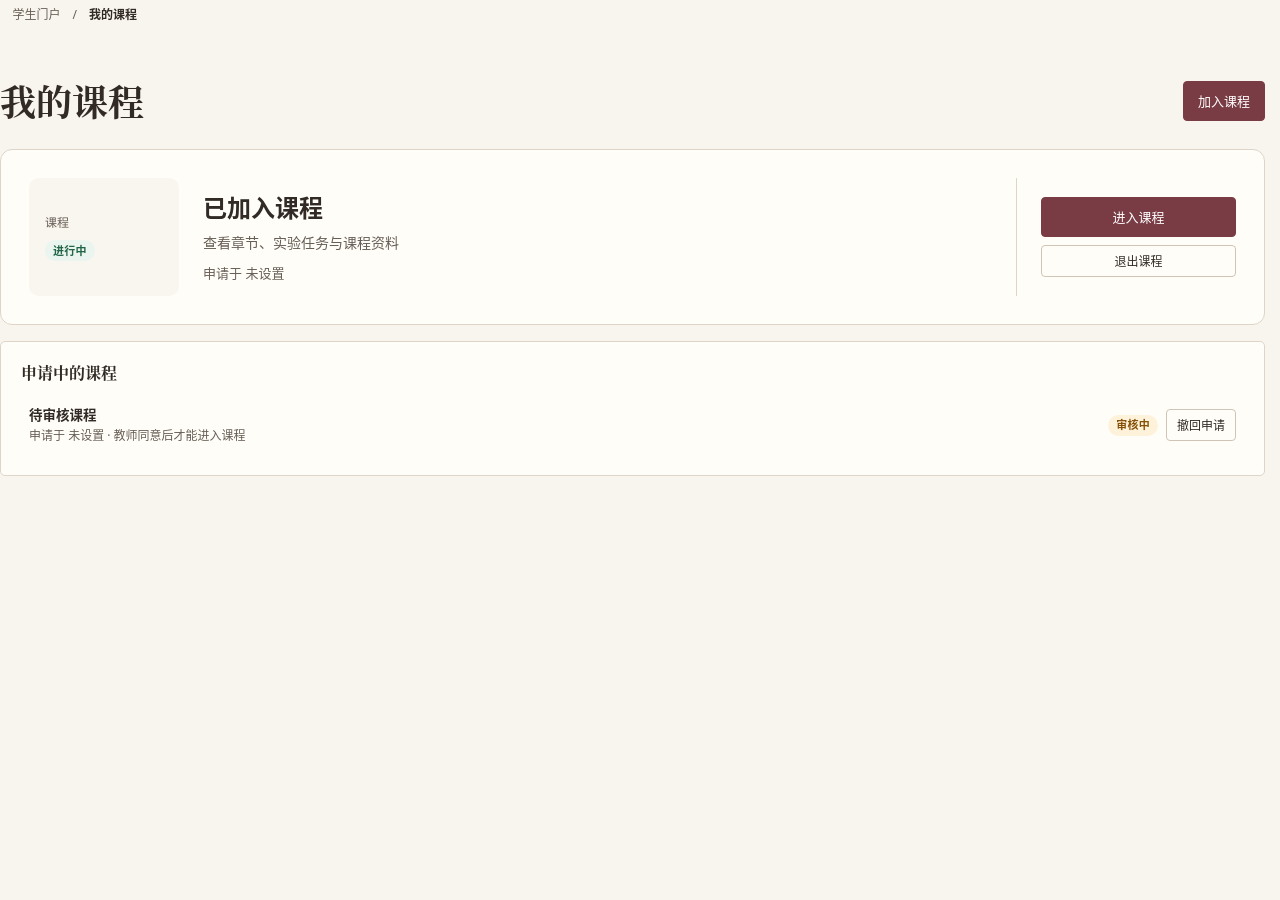
Test: 已加入课程允许学生自行退出并从课程列表移除
Step 1. Click the button "退出课程" → (1138, 261), box [1041,245,1236,277]
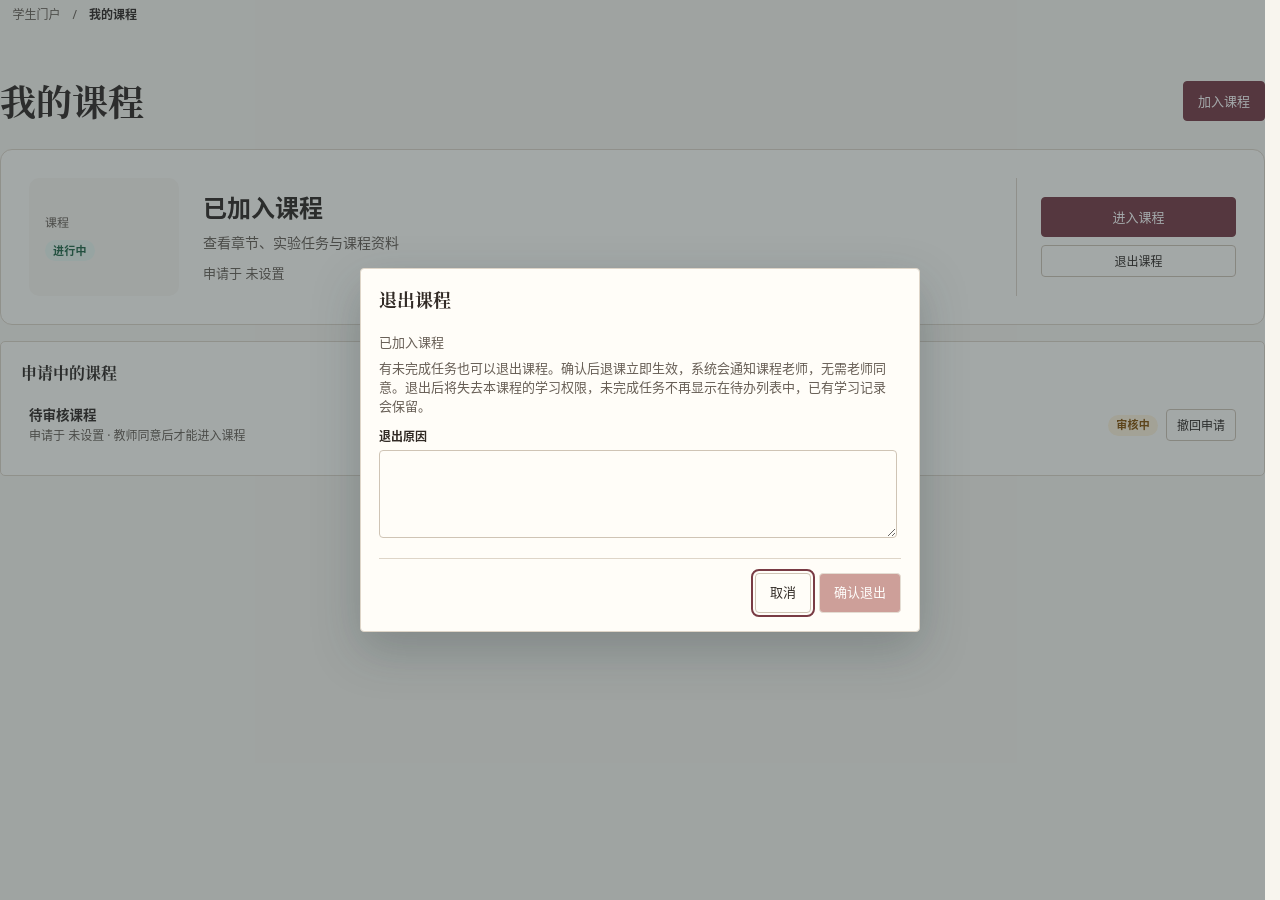
Step 2. Type "选课调整" into the text box labelled "退出原因" → (638, 494), box [379,450,897,538]
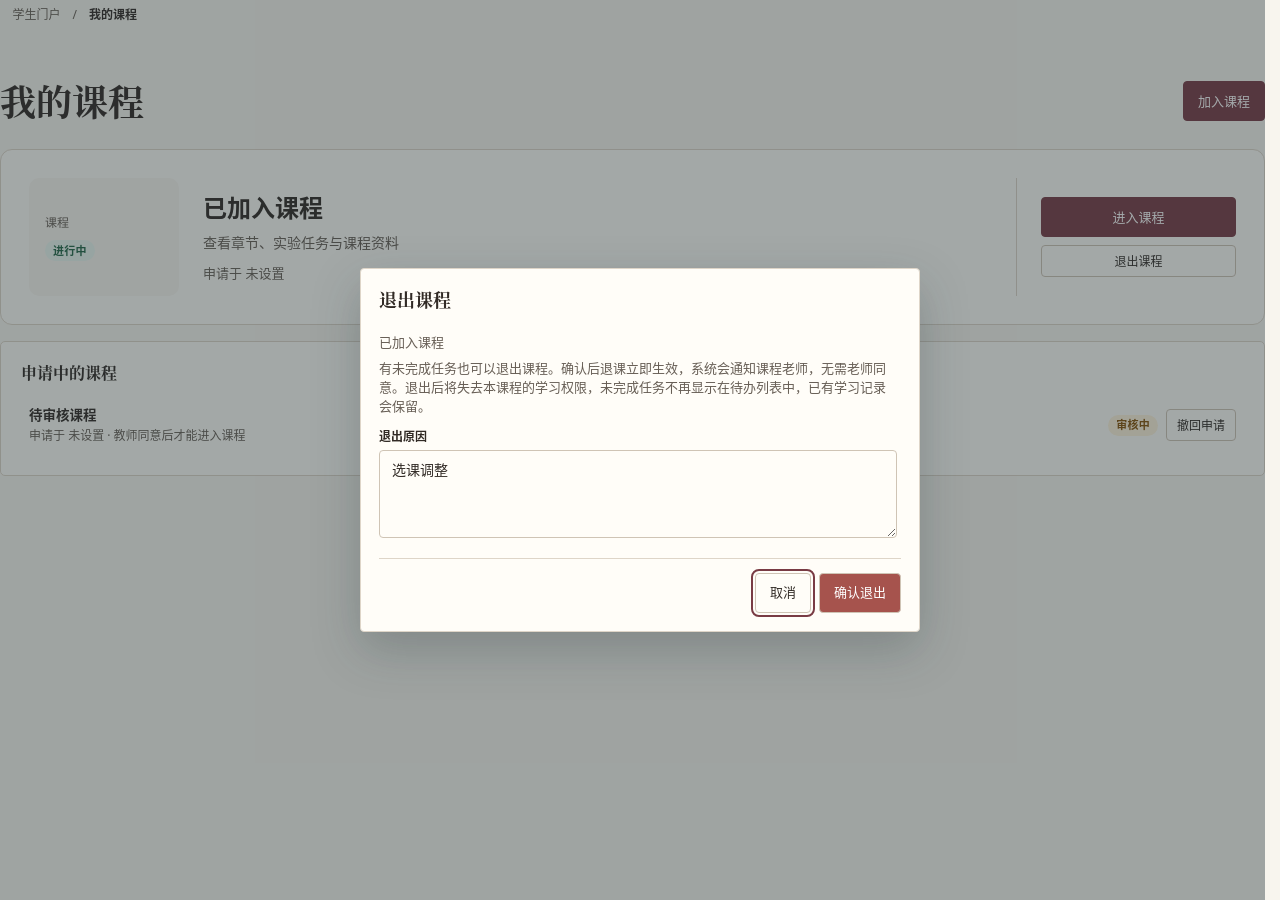
Expected: the button "确认退出" is enabled
Step 3. Click the button "确认退出" → (860, 593), box [819,573,901,613]
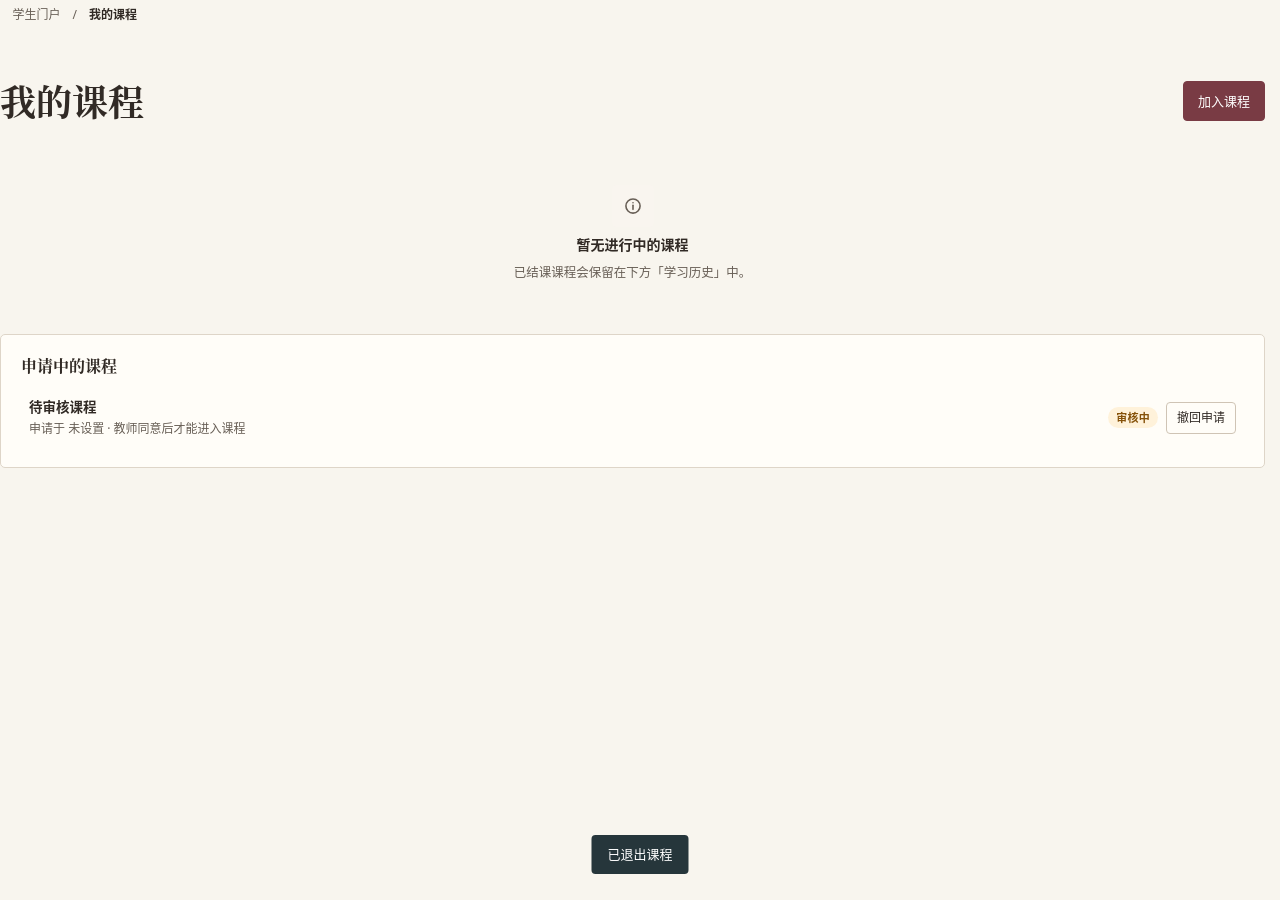
Expected: the text "暂无进行中的课程" is shown, [576,235,688,256]
